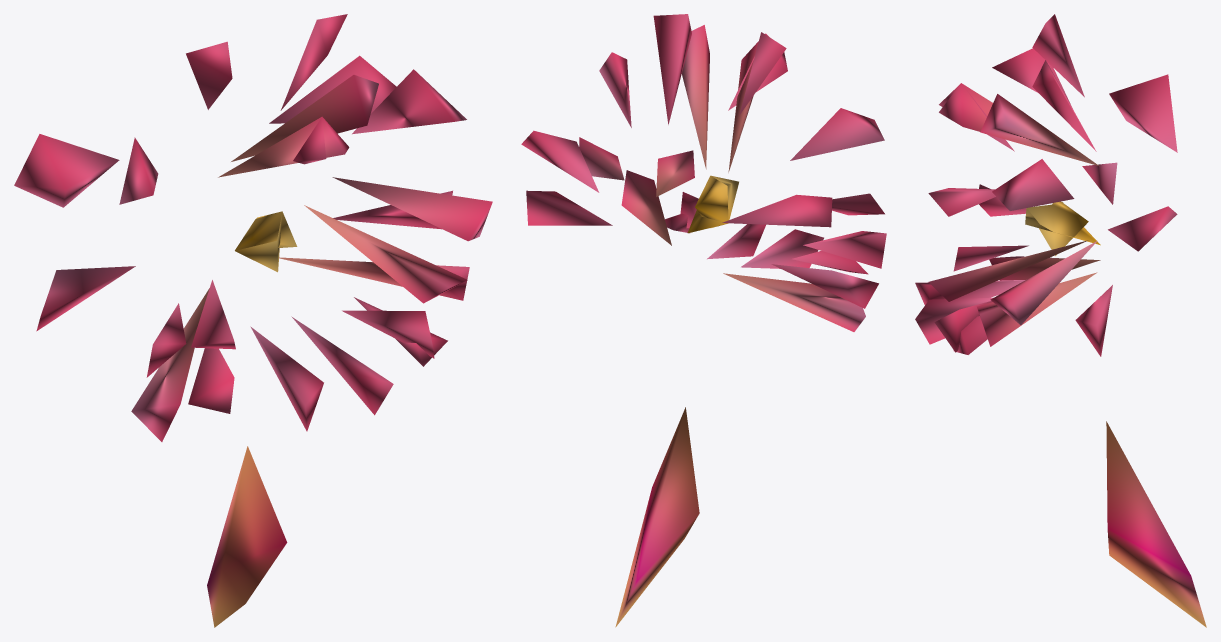
Rendered from mesh_lod_1_19863d0b-978e-57ce-b6c0-88c23ac08eba.glb.
3 renders of one model, left to right at view 1: azimuth 30°, elevation 25°; view 2: azimuth 150°, elevation 25°; view 3: azimuth 270°, elevation 25°, orthographic. The views are drawn at different scales.
Parts seen in each view (by area): view 1: LOD 1_19863d0b-978e-57ce-b6c0-88c23ac08eba; view 2: LOD 1_19863d0b-978e-57ce-b6c0-88c23ac08eba; view 3: LOD 1_19863d0b-978e-57ce-b6c0-88c23ac08eba.
Boxes of the visible parts, left/top/right/bottom form: LOD 1_19863d0b-978e-57ce-b6c0-88c23ac08eba: left=14, top=14, right=492, bottom=627; LOD 1_19863d0b-978e-57ce-b6c0-88c23ac08eba: left=521, top=14, right=886, bottom=627; LOD 1_19863d0b-978e-57ce-b6c0-88c23ac08eba: left=915, top=14, right=1206, bottom=627.
Bounding box in the file's own units: 1.43 × 2.19 × 1.01.
